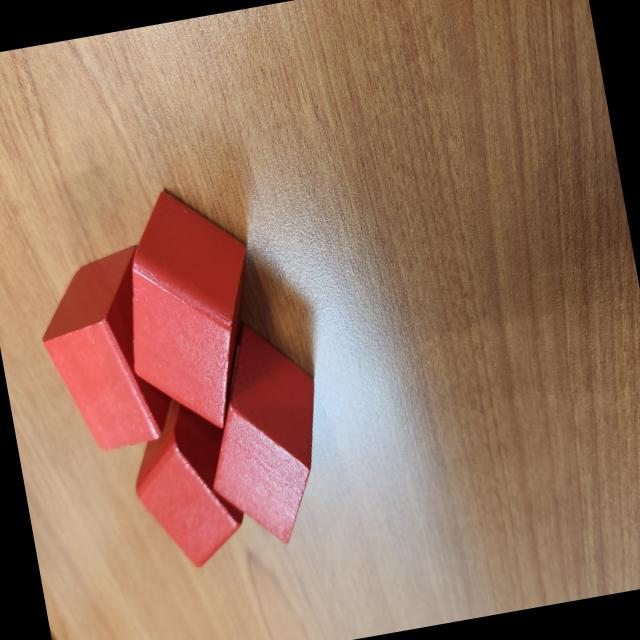red: (102, 177, 278, 443), (183, 313, 341, 555), (28, 243, 179, 458), (120, 384, 256, 576)
